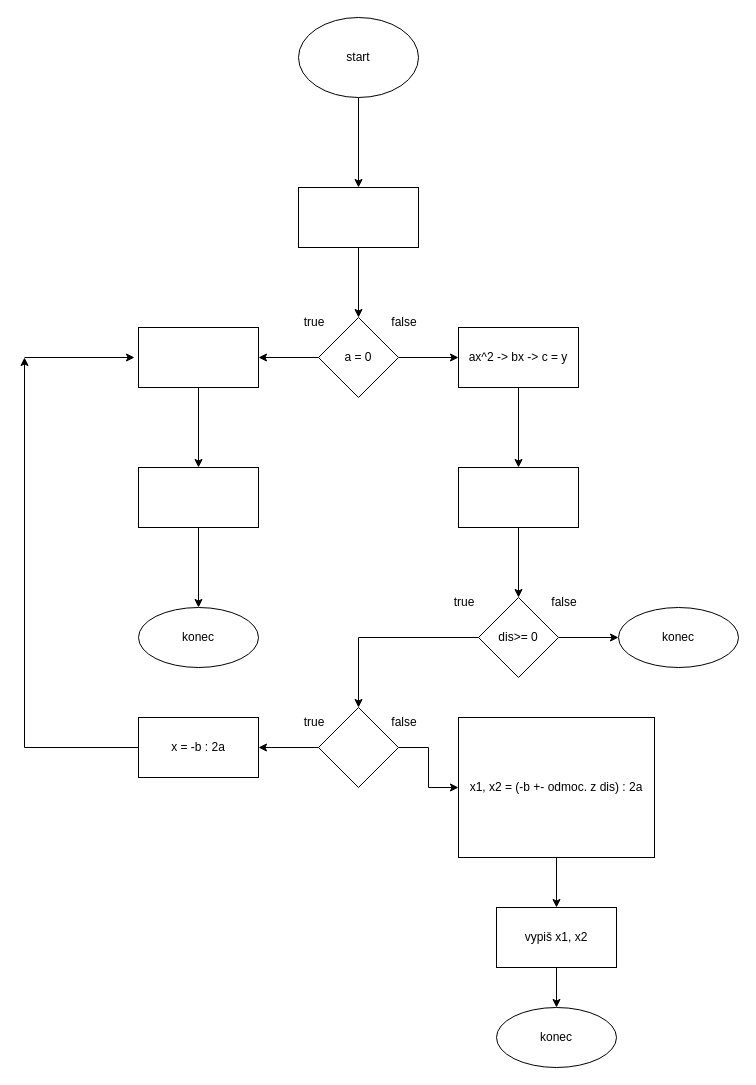
The diagram is 756 pixels wide and 1085 high, and some of its shapes have lost their labels. Here are the shapes that lost their labels. From the top down, the centre of each, then its label:
At point 358,217: "a, b, c, y, dis".
At point 198,357: "x = (y - b) : a".
At point 198,497: "vypiš x".
At point 518,497: "d = b^2 - 4ac".
At point 358,747: "dis = 0".
